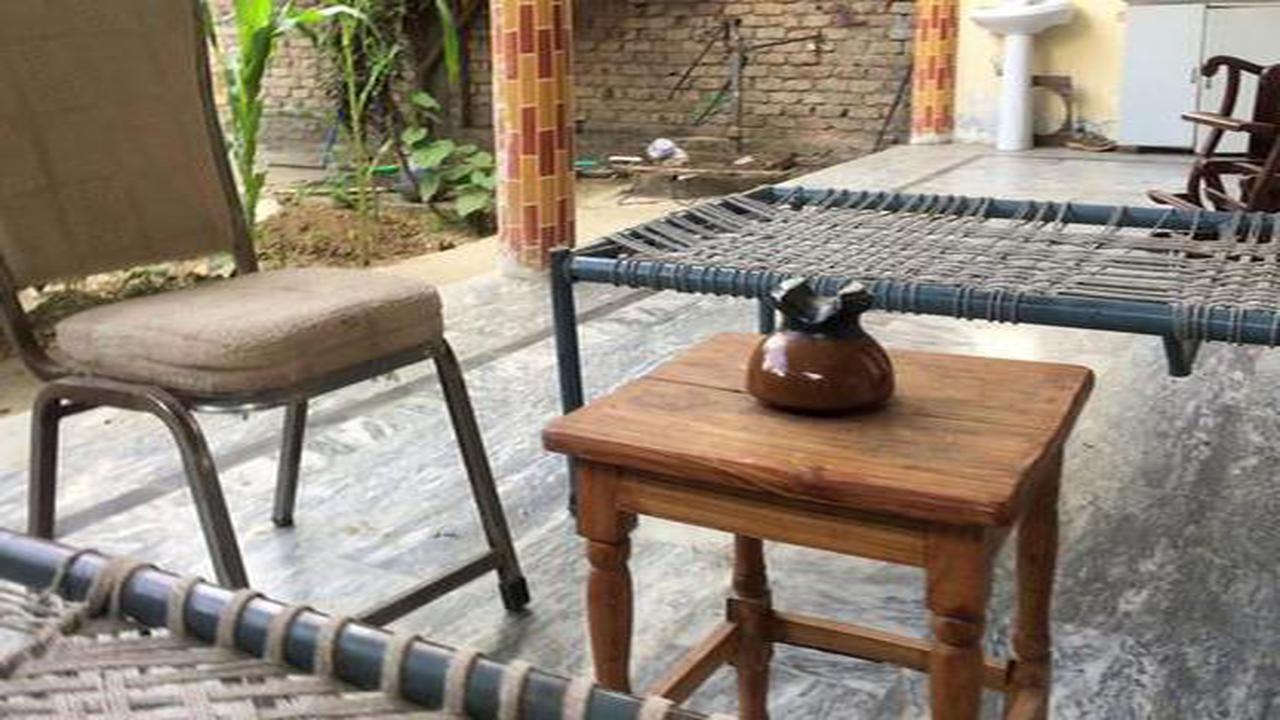insulator_pin: (727, 257, 927, 428)
